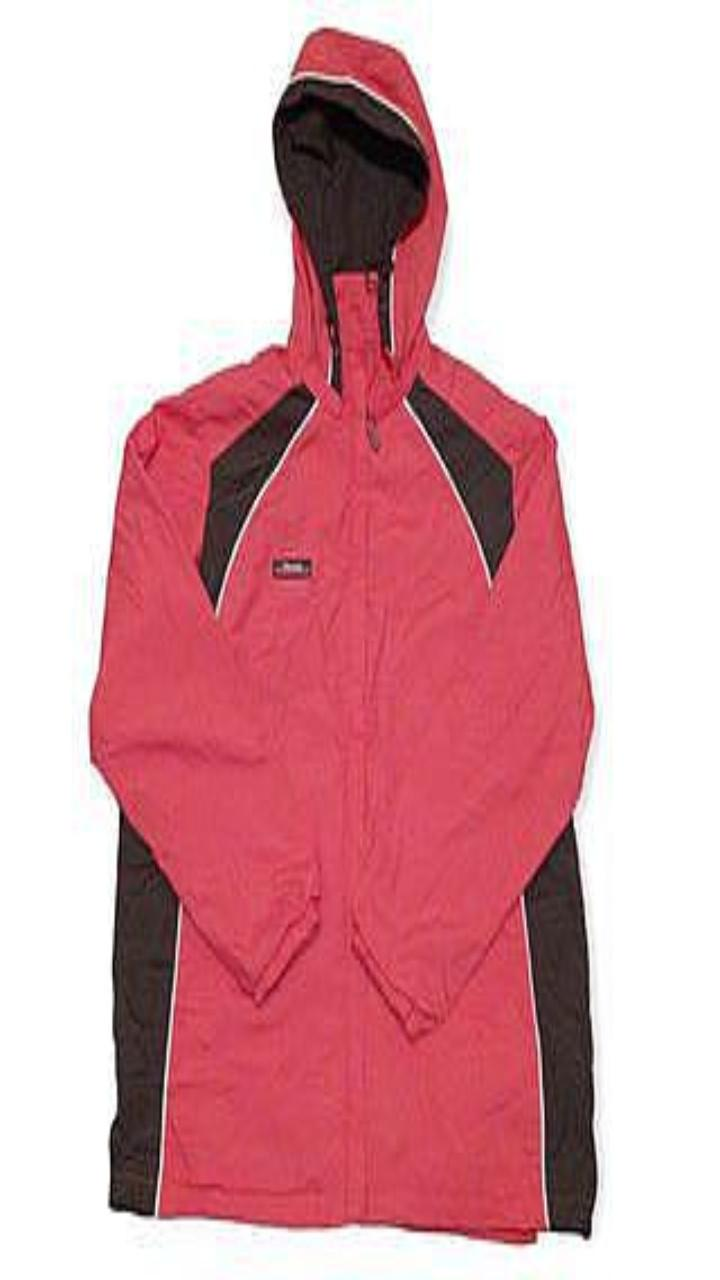Sports_Jacket: (91, 30, 595, 1240)
